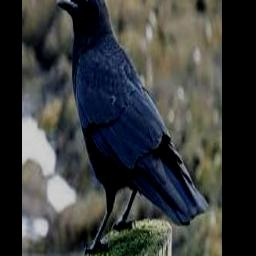Crow: (58, 0, 209, 256)
